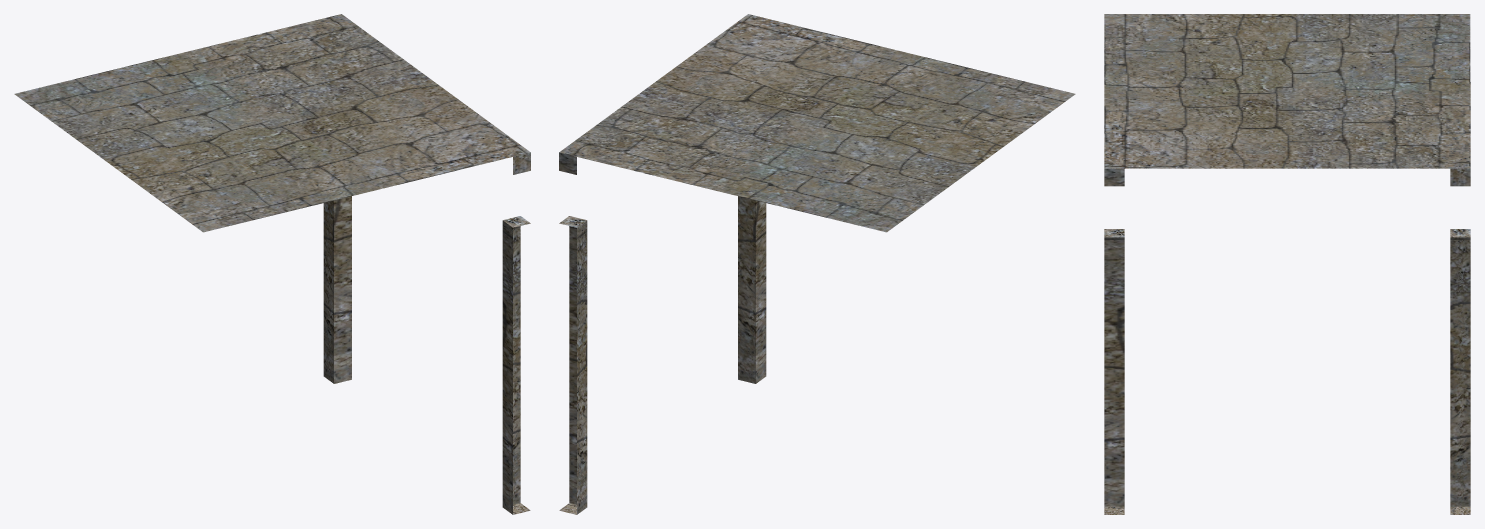
The model's file is Section18.FBX.
3 renders of one model, left to right at view 1: azimuth 30°, elevation 25°; view 2: azimuth 150°, elevation 25°; view 3: azimuth 270°, elevation 25°, orthographic. The views are drawn at different scales.
Visible parts, largest first — view 1: ClaimedCo100NE-SE001; view 2: ClaimedCo100NE-SE001; view 3: ClaimedCo100NE-SE001.
Boxes of the visible parts, x1=… form: ClaimedCo100NE-SE001: x1=14, y1=14, x2=530, y2=514; ClaimedCo100NE-SE001: x1=559, y1=14, x2=1075, y2=514; ClaimedCo100NE-SE001: x1=1104, y1=14, x2=1470, y2=514.
Size of the model in its own units: 100 by 104 by 100.
